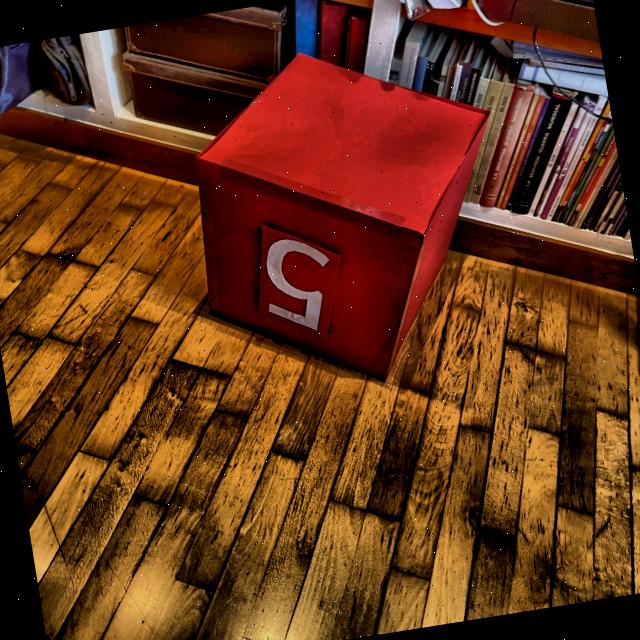five: (256, 227, 343, 341)
red box: (176, 28, 525, 406)
